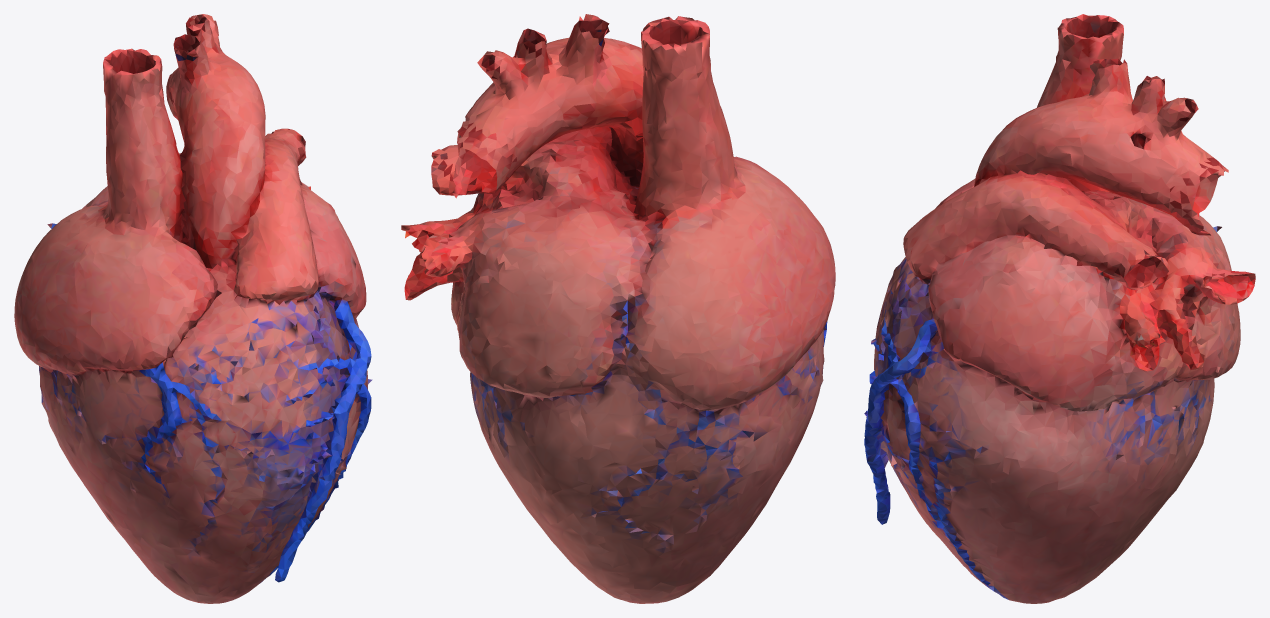
Rendered from heart2afa.glb.
3 views of the same model, side by side, from view 1: azimuth 30°, elevation 25°; view 2: azimuth 150°, elevation 25°; view 3: azimuth 270°, elevation 25° (orthographic). The views are drawn at different scales.
Parts seen in each view (by area): view 1: Corazon_que_resalte_l_0328180634_texture; view 2: Corazon_que_resalte_l_0328180634_texture; view 3: Corazon_que_resalte_l_0328180634_texture.
Boxes of the visible parts, x1,y1,x2,y2 form: Corazon_que_resalte_l_0328180634_texture: [14, 14, 372, 603]; Corazon_que_resalte_l_0328180634_texture: [401, 14, 835, 603]; Corazon_que_resalte_l_0328180634_texture: [864, 14, 1255, 603].
Bounding box in the file's own units: 1.24 × 2 × 1.3.
1 material, 1 textured.
